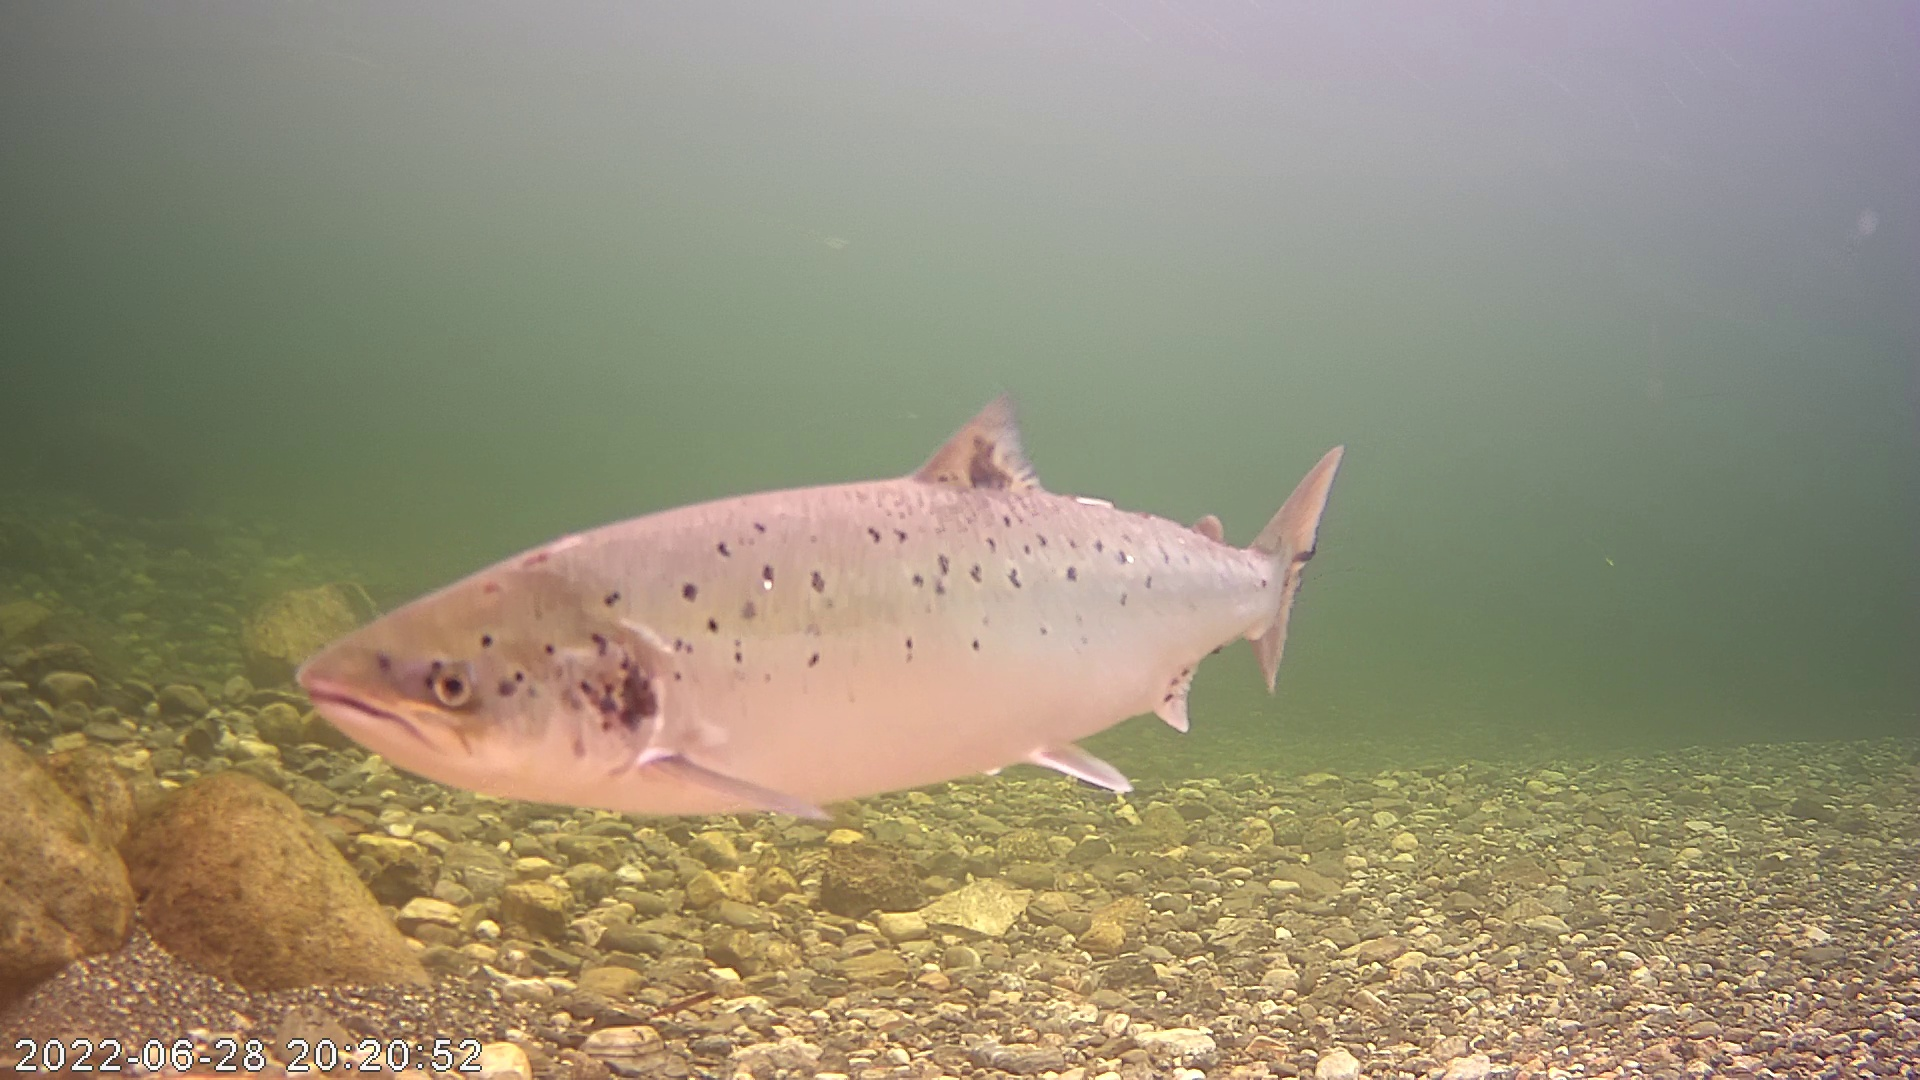salmon: (274, 339, 1340, 833)
